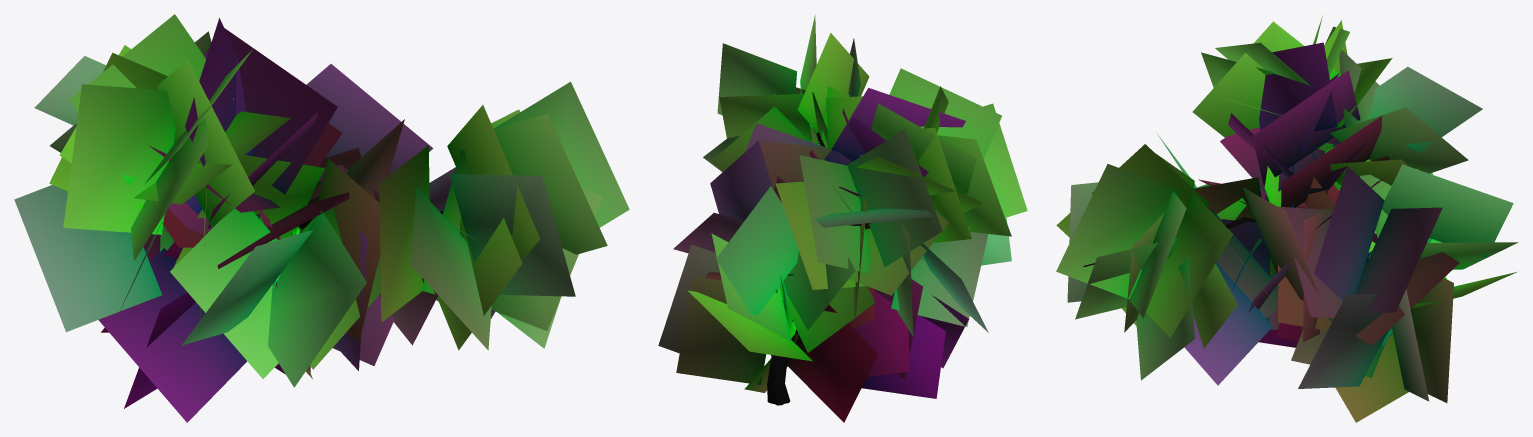
Rendered from M_P15_Tree_8.fbx.
3 views of the same model, side by side, from view 1: azimuth 30°, elevation 25°; view 2: azimuth 150°, elevation 25°; view 3: azimuth 270°, elevation 25° (orthographic). The views are drawn at different scales.
Visible parts, largest first — view 1: Tree_8; view 2: Tree_8; view 3: Tree_8.
Boxes of the visible parts, bbox=[...] form: Tree_8: bbox=[14, 14, 629, 422]; Tree_8: bbox=[658, 15, 1027, 422]; Tree_8: bbox=[1056, 15, 1518, 422].
Bounding box in the file's own units: 712 × 582 × 730.
